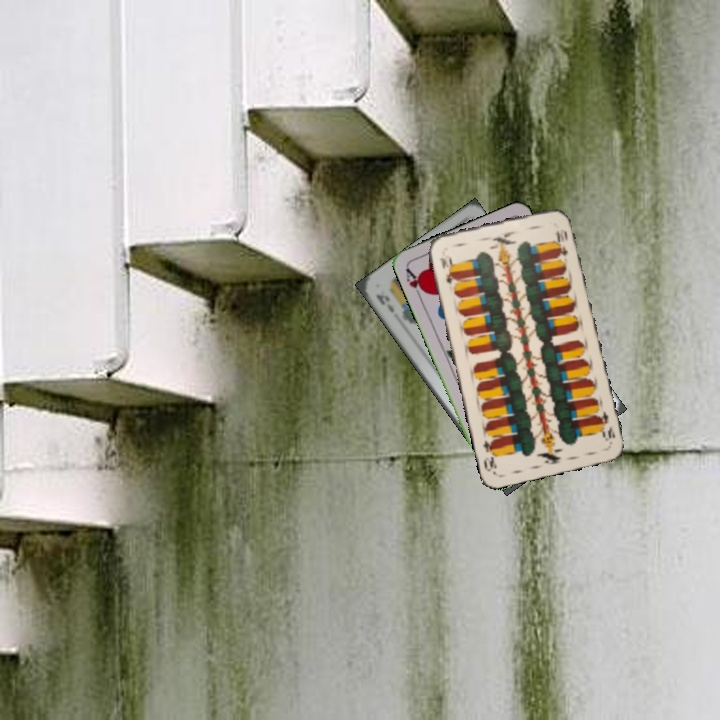E10: (592, 406, 618, 444), (435, 253, 457, 287)
EK: (372, 290, 397, 315)
HA: (401, 264, 429, 303)
